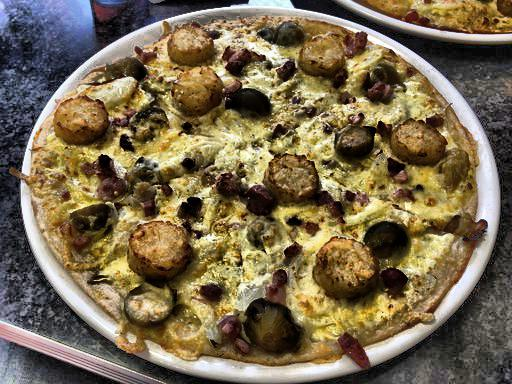pizza: (2, 15, 482, 369)
